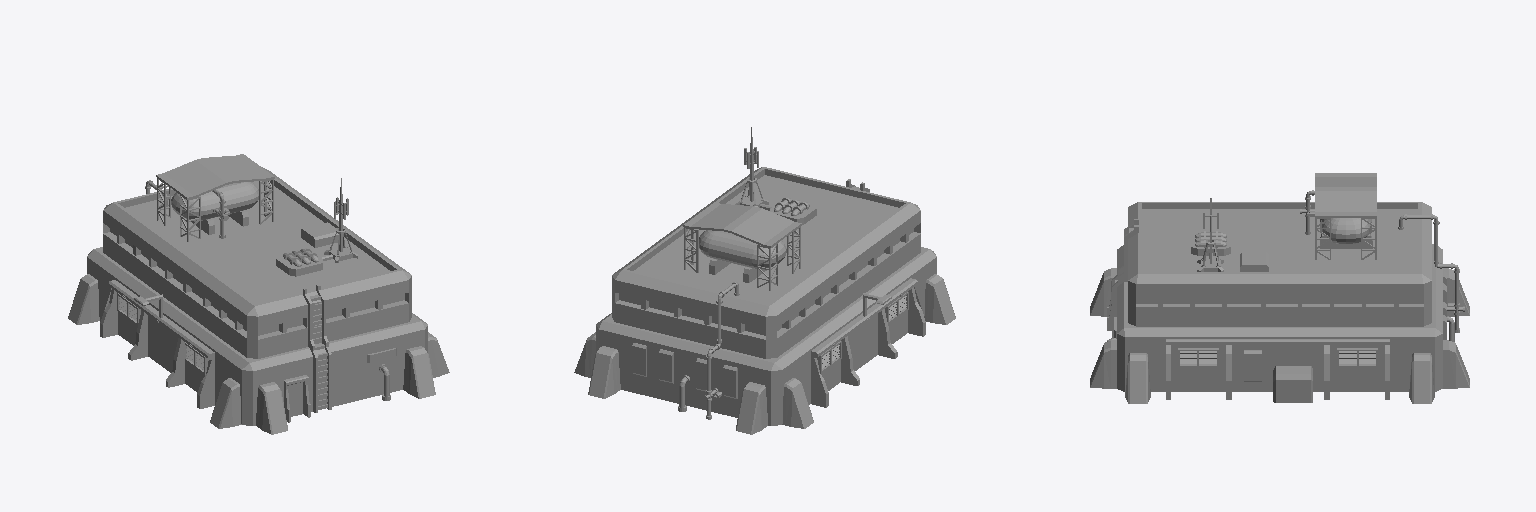
Rendered from service_building_.obj.
3 views of the same model, side by side, from view 1: azimuth 30°, elevation 25°; view 2: azimuth 150°, elevation 25°; view 3: azimuth 270°, elevation 25° (orthographic).
Visible parts, largest first — view 1: service_building_1__Cube.100; view 2: service_building_1__Cube.100; view 3: service_building_1__Cube.100.
Boxes of the visible parts, x1=… form: service_building_1__Cube.100: x1=68, y1=154, x2=449, y2=434; service_building_1__Cube.100: x1=574, y1=127, x2=955, y2=434; service_building_1__Cube.100: x1=1090, y1=173, x2=1469, y2=403.
Size of the model in its own units: 4.27 by 3.15 by 5.94.